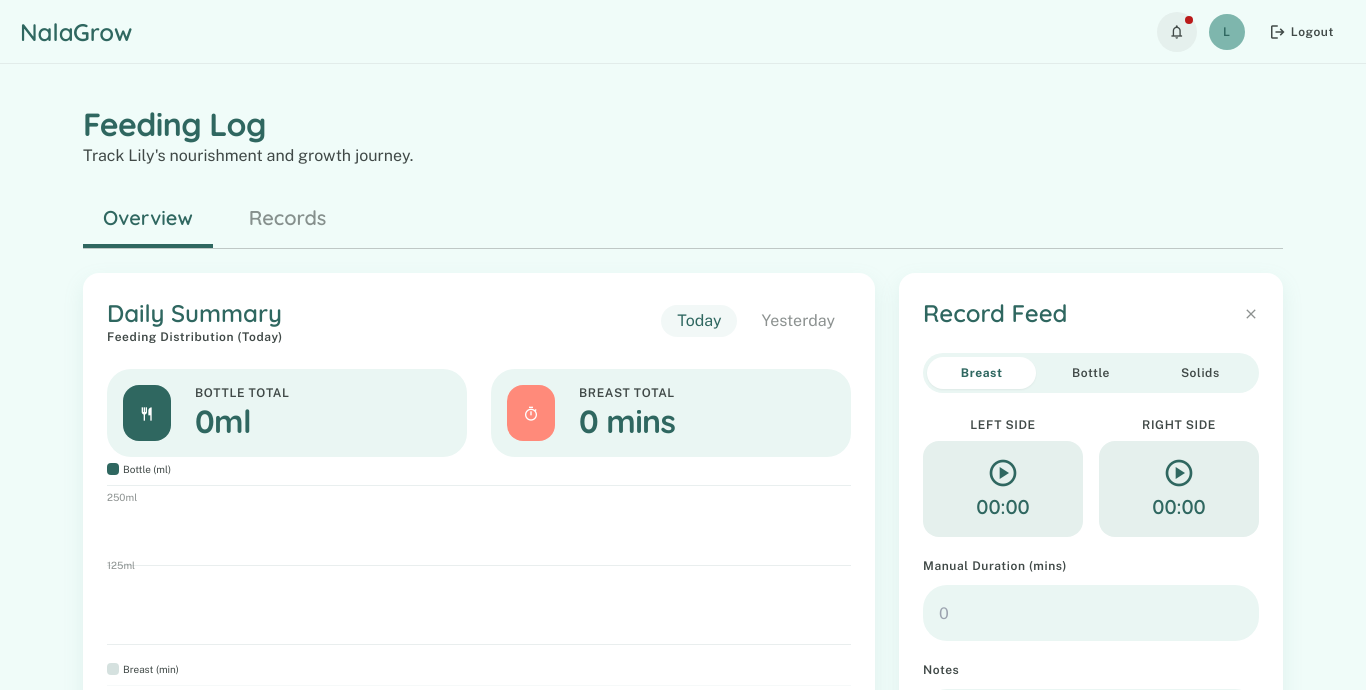
FeedingPage › Tab switching › switches to Bottle tab when clicked
Click the button "Bottle" at (1091,373), box [1036,357,1146,389]
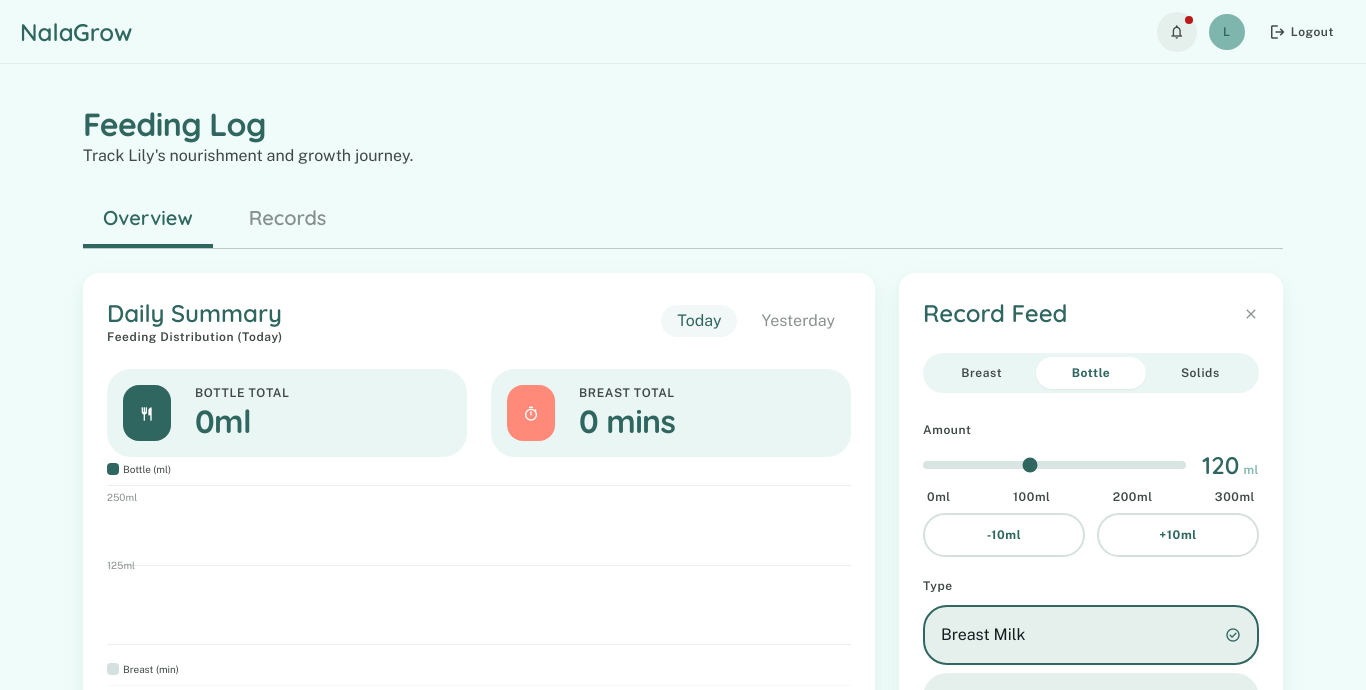
Expected: the text "Amount" is shown, [923,423,971,437]
Expected: the text "Type" is shown, [923,579,953,593]
Expected: the text "Breast Milk" is shown, [941,623,1026,647]
